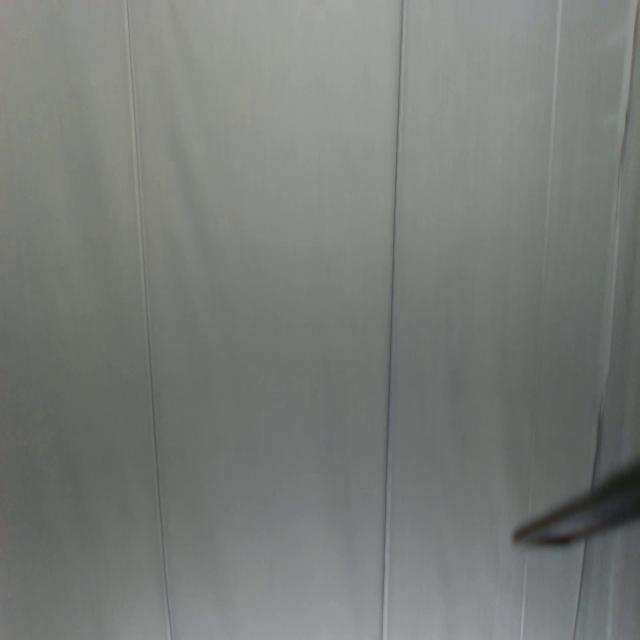crease: (124, 1, 175, 640), (378, 0, 407, 640), (567, 396, 606, 640), (538, 0, 564, 285), (609, 0, 640, 230), (517, 552, 529, 640)
